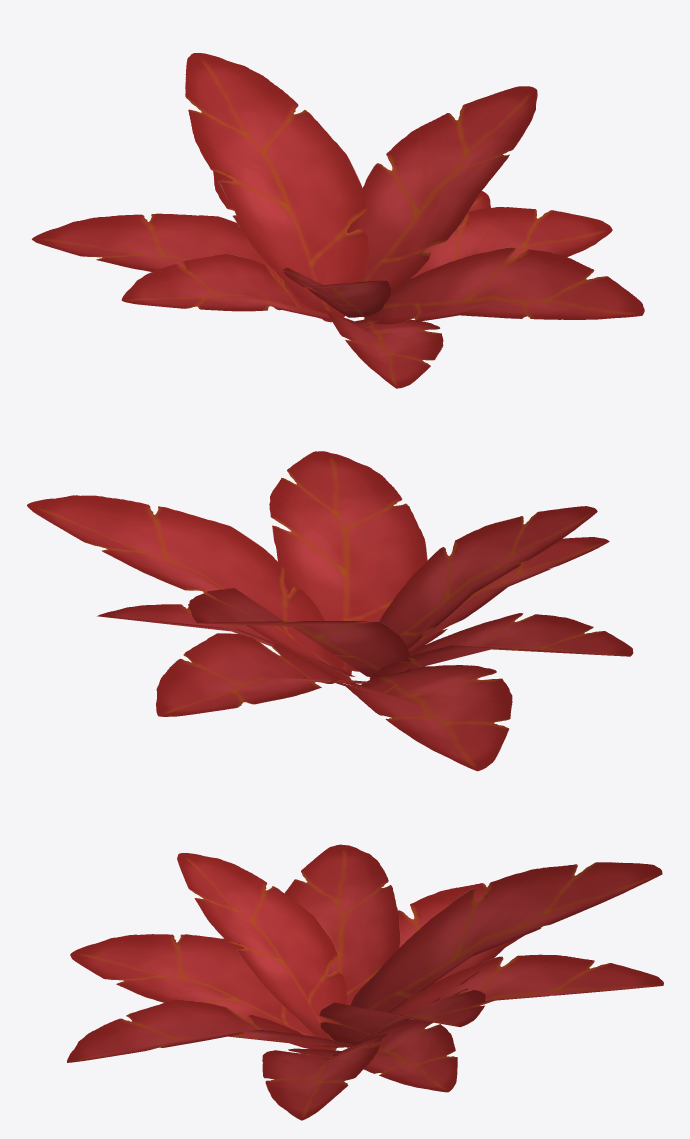
File: M_Redplant.fbx
The picture shows the model from 3 angles, top to bottom: view 1: azimuth 30°, elevation 25°; view 2: azimuth 150°, elevation 25°; view 3: azimuth 270°, elevation 25°; orthographic projection. The views are drawn at different scales.
Parts seen in each view (by area): view 1: pPlane36; view 2: pPlane36; view 3: pPlane36.
Part boxes in pixels (left/top/right/bottom): pPlane36: left=32, top=53, right=644, bottom=388; pPlane36: left=27, top=451, right=633, bottom=771; pPlane36: left=67, top=844, right=663, bottom=1120.
Size of the model in its own units: 4.53 by 1.62 by 4.7.
